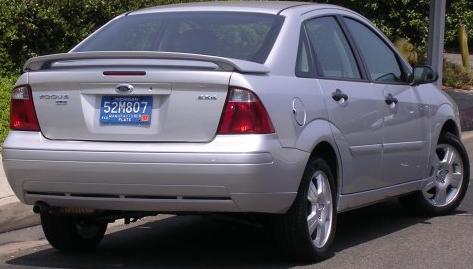back_view: (7, 69, 290, 218)
backlight: (212, 82, 282, 133)
side_glass: (307, 13, 420, 77)
